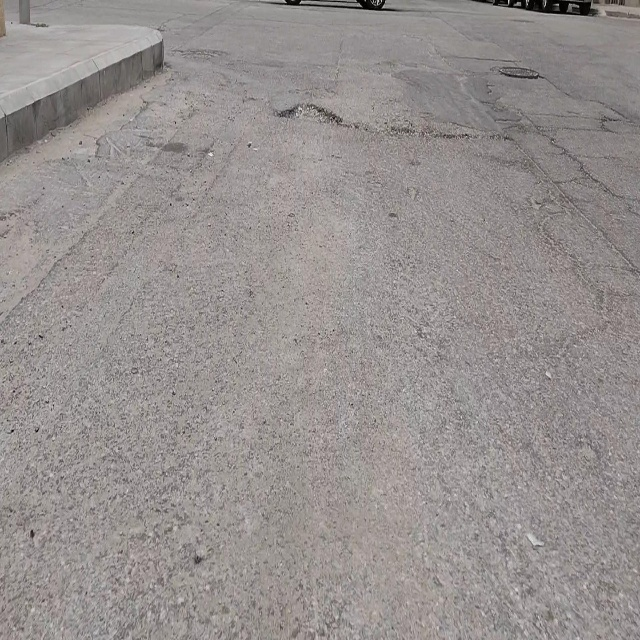pothole: (279, 103, 341, 125)
